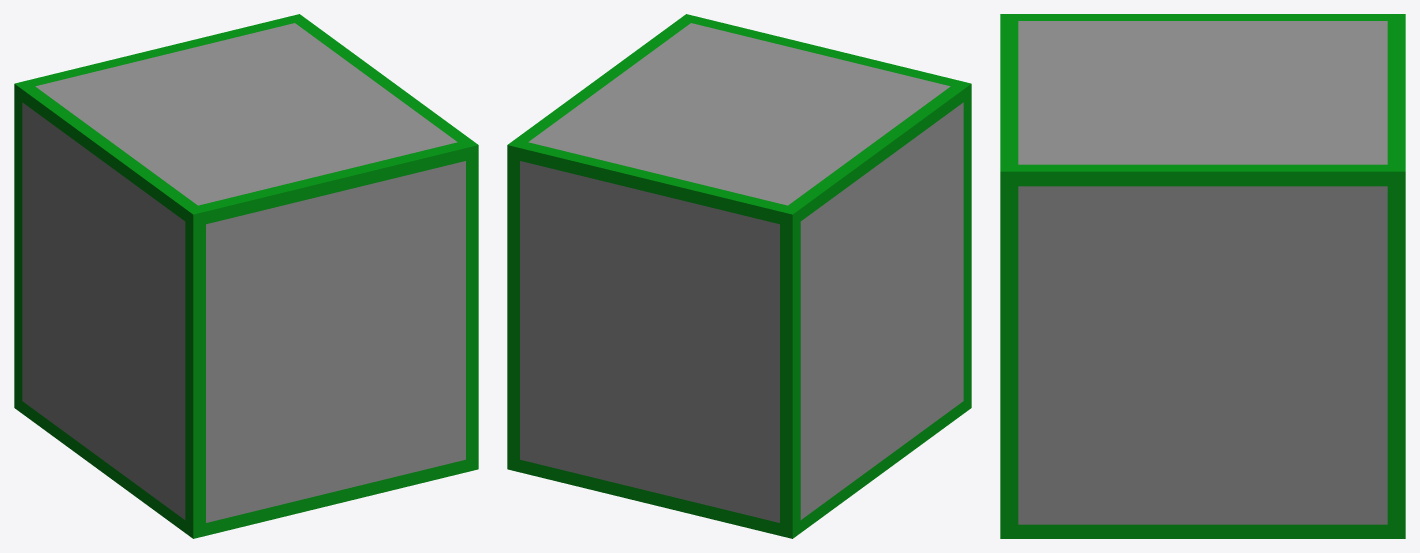
Rendered from mesh_building_02.FBX.
The picture shows the model from 3 angles, left to right: view 1: azimuth 30°, elevation 25°; view 2: azimuth 150°, elevation 25°; view 3: azimuth 270°, elevation 25°; orthographic projection. The views are drawn at different scales.
Parts seen in each view (by area): view 1: Box001; view 2: Box001; view 3: Box001.
Boxes of the visible parts, box(x1,y1,x2,y2) form: Box001: box(14, 14, 478, 538); Box001: box(507, 14, 971, 538); Box001: box(1000, 14, 1405, 538).
Size of the model in its own units: 44.24 by 48.06 by 48.07.
